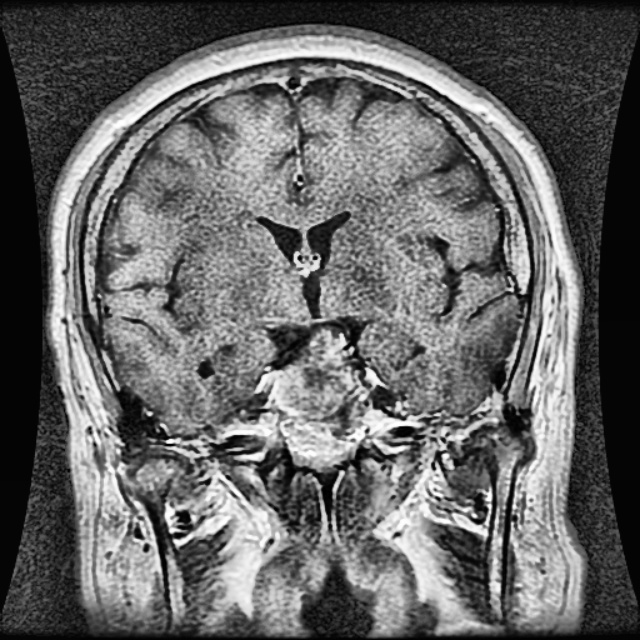Pituitary: (255, 327, 385, 468)
